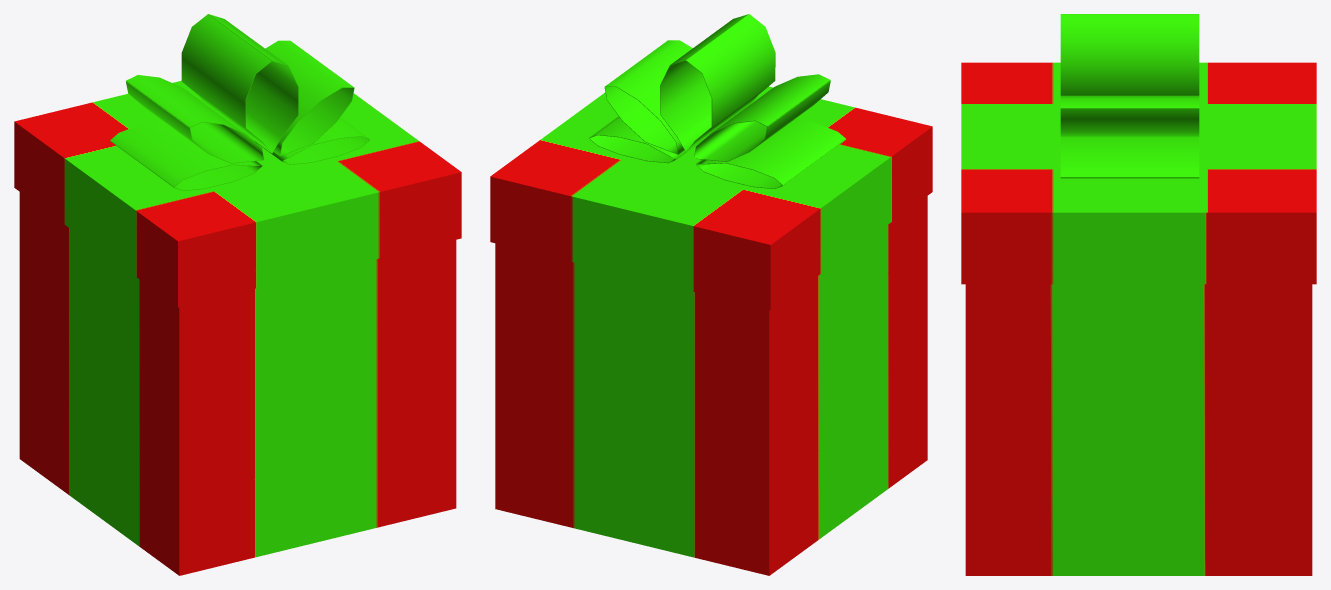
Rendered from Present 1.fbx.
3 views of the same model, side by side, from view 1: azimuth 30°, elevation 25°; view 2: azimuth 150°, elevation 25°; view 3: azimuth 270°, elevation 25° (orthographic). The views are drawn at different scales.
Visible parts, largest first — view 1: Box, Top; view 2: Box, Top; view 3: Box, Top.
Boxes of the visible parts, bbox=[...] form: Box: bbox=[19, 192, 456, 575]; Top: bbox=[14, 14, 461, 307]; Box: bbox=[495, 196, 927, 575]; Top: bbox=[490, 14, 932, 310]; Box: bbox=[965, 284, 1312, 575]; Top: bbox=[961, 14, 1316, 284].
Bounding box in the file's own units: 10.24 × 15.52 × 10.24.
Materials: 1 (1 with a texture image).
